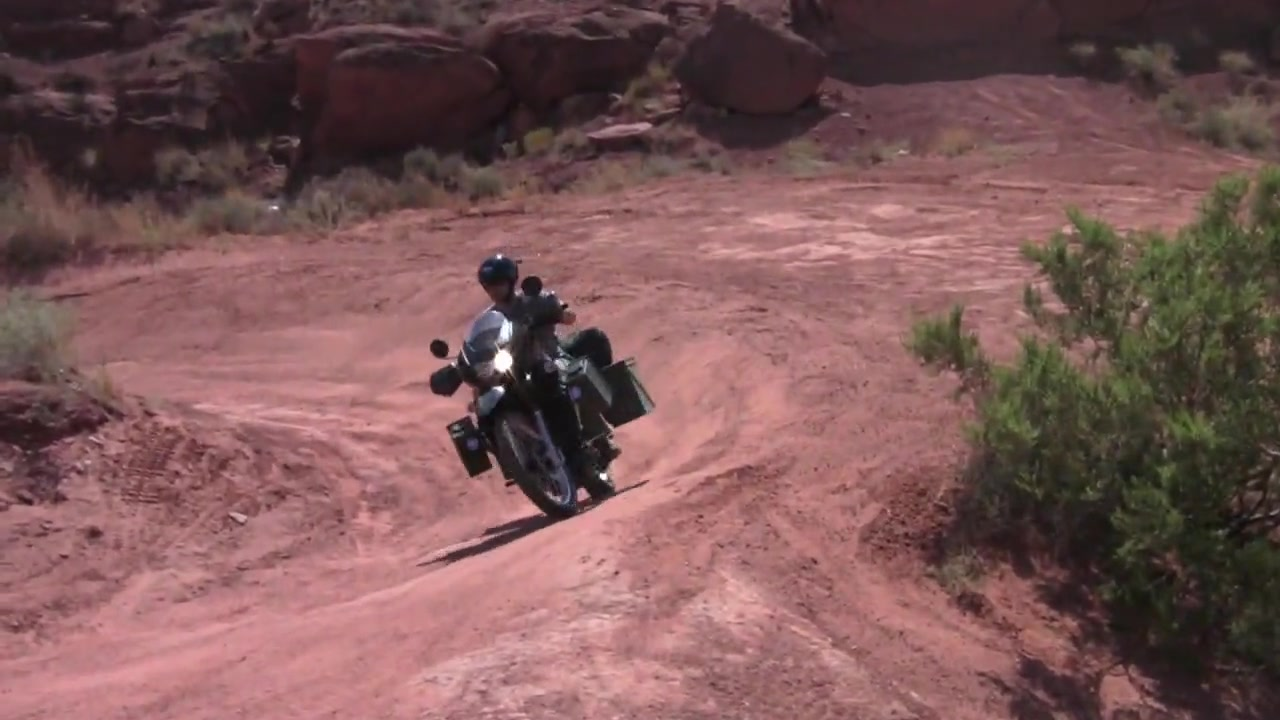motorbike: (430, 278, 659, 522)
